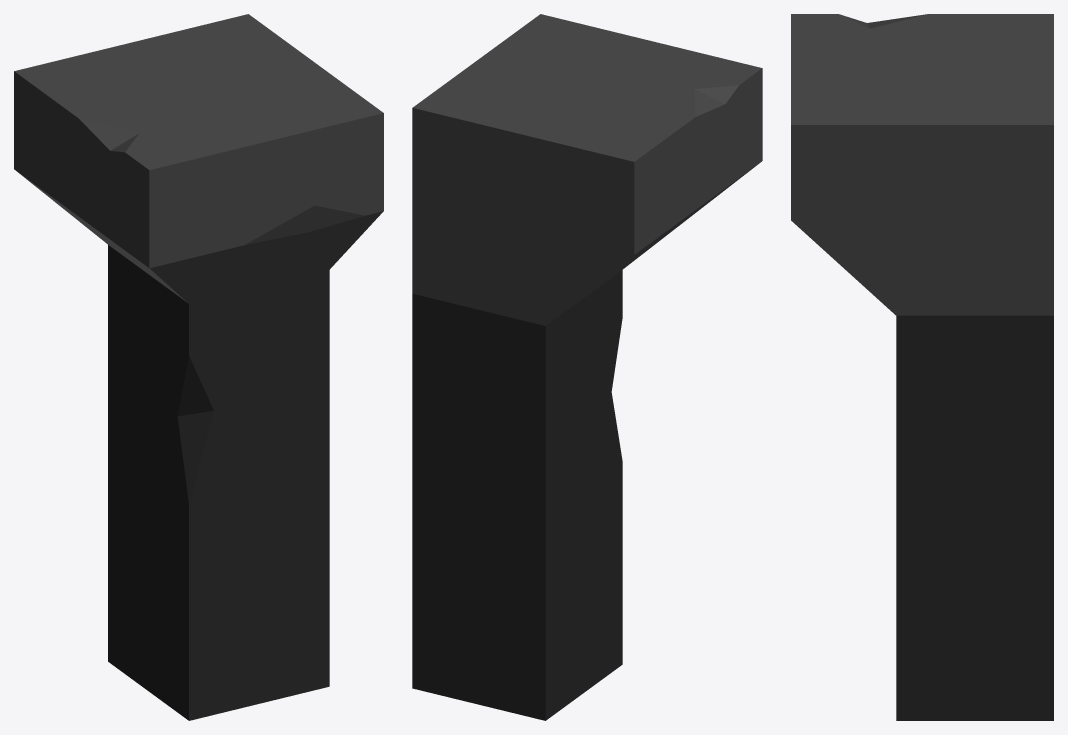
The model's file is SW_ENV_RailTunnel_Wall_Ledge_A_Crnr_02.fbx.
3 renders of one model, left to right at view 1: azimuth 30°, elevation 25°; view 2: azimuth 150°, elevation 25°; view 3: azimuth 270°, elevation 25°, orthographic. The views are drawn at different scales.
Visible parts, largest first — view 1: SW_ENV_RailTunnel_Wall_Ledge_A_Crnr_02; view 2: SW_ENV_RailTunnel_Wall_Ledge_A_Crnr_02; view 3: SW_ENV_RailTunnel_Wall_Ledge_A_Crnr_02.
Boxes of the visible parts, left/top/right/bottom form: SW_ENV_RailTunnel_Wall_Ledge_A_Crnr_02: left=14, top=14, right=383, bottom=720; SW_ENV_RailTunnel_Wall_Ledge_A_Crnr_02: left=412, top=14, right=762, bottom=720; SW_ENV_RailTunnel_Wall_Ledge_A_Crnr_02: left=791, top=14, right=1053, bottom=720.
Bounding box in the file's own units: 50 × 125 × 50.
